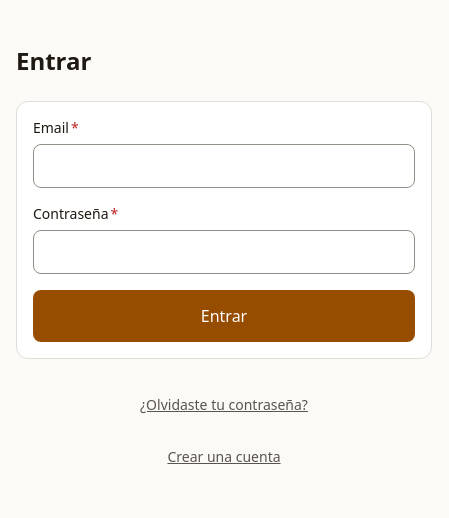
Test: entrar › 🔴 email inexistente y clave incorrecta dicen lo mismo
In the field labelled "Email*": (224, 166) [33,144,415,188], type "nadie@example.com"
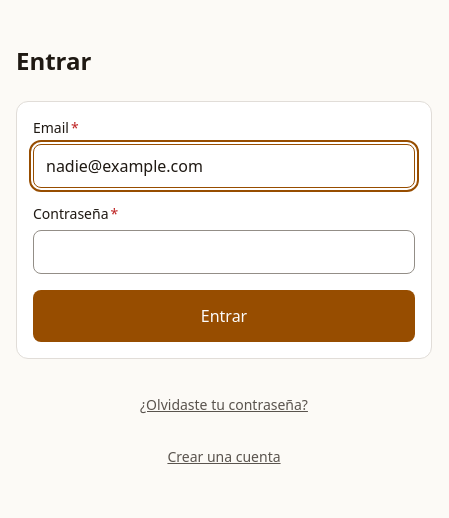
In the password field labelled "Contraseña*": (224, 252) [33,230,415,274], type "lo-que-sea-largo"
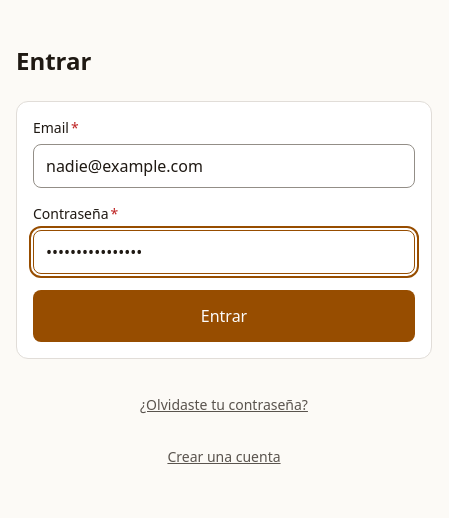
Click the button "Entrar": (224, 316) [33,290,415,342]
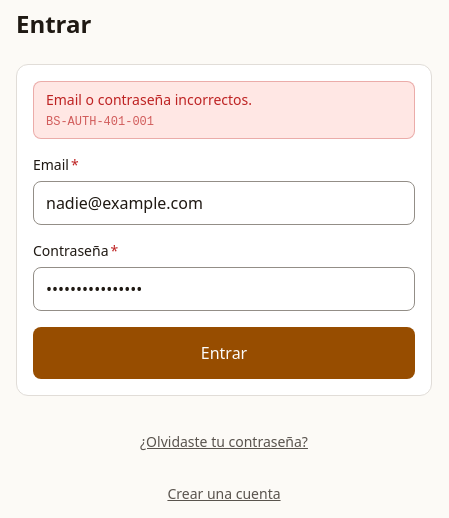
Result: the message shows "Email o contraseña incorrectos." at [46,90,252,109]
